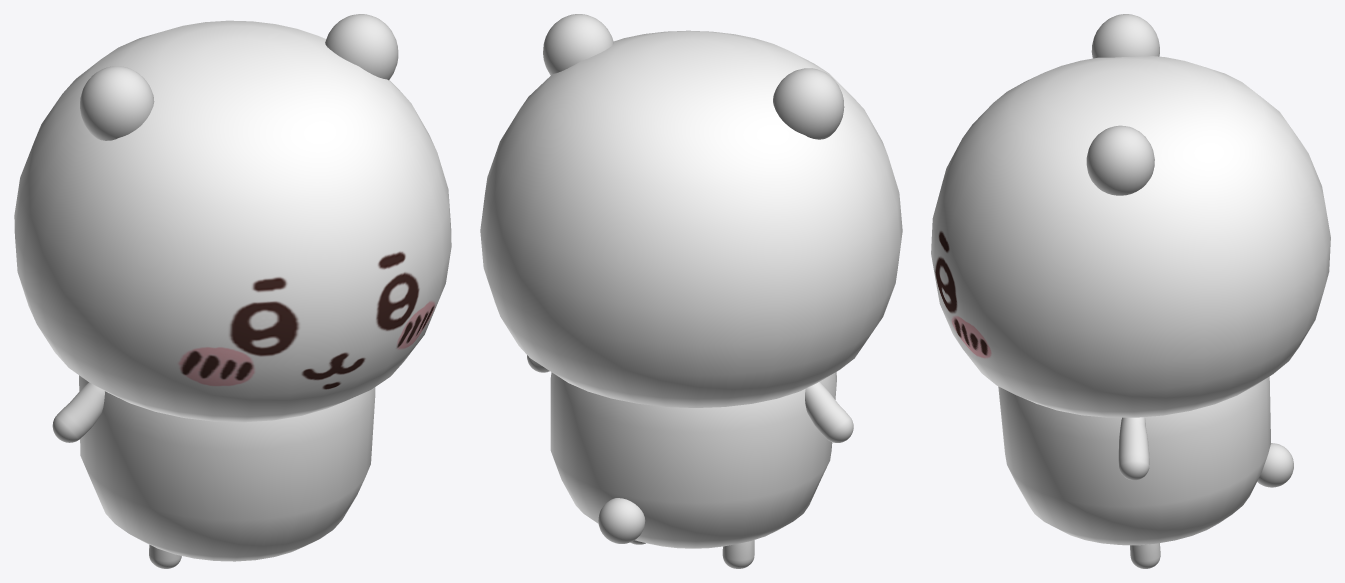
File: chiikawa.glb
3 renders of one model, left to right at view 1: azimuth 30°, elevation 25°; view 2: azimuth 150°, elevation 25°; view 3: azimuth 270°, elevation 25°, orthographic. The views are drawn at different scales.
Visible parts, largest first — view 1: 顔, 体, 耳, 左手; view 2: 顔, 体, 耳, 左手, しっぽ, 足; view 3: 顔, 体, 耳, 右手, しっぽ, 足.
Boxes of the visible parts, x1,y1,x2,y2 form: 顔: [14, 20, 451, 422]; 体: [79, 375, 375, 561]; 耳: [80, 14, 398, 140]; 左手: [52, 382, 104, 442]; 顔: [480, 30, 902, 407]; 体: [550, 372, 836, 548]; 耳: [543, 14, 844, 139]; 左手: [805, 381, 853, 442]; しっぽ: [598, 498, 645, 543]; 足: [630, 540, 754, 568]; 顔: [931, 56, 1330, 417]; 体: [998, 376, 1270, 545]; 耳: [1086, 14, 1159, 195]; 右手: [1118, 417, 1149, 480]; しっぽ: [1257, 443, 1293, 487]; 足: [1130, 543, 1160, 568].
Bounding box in the file's own units: 2 × 2.62 × 2.
7 materials, 1 textured.
